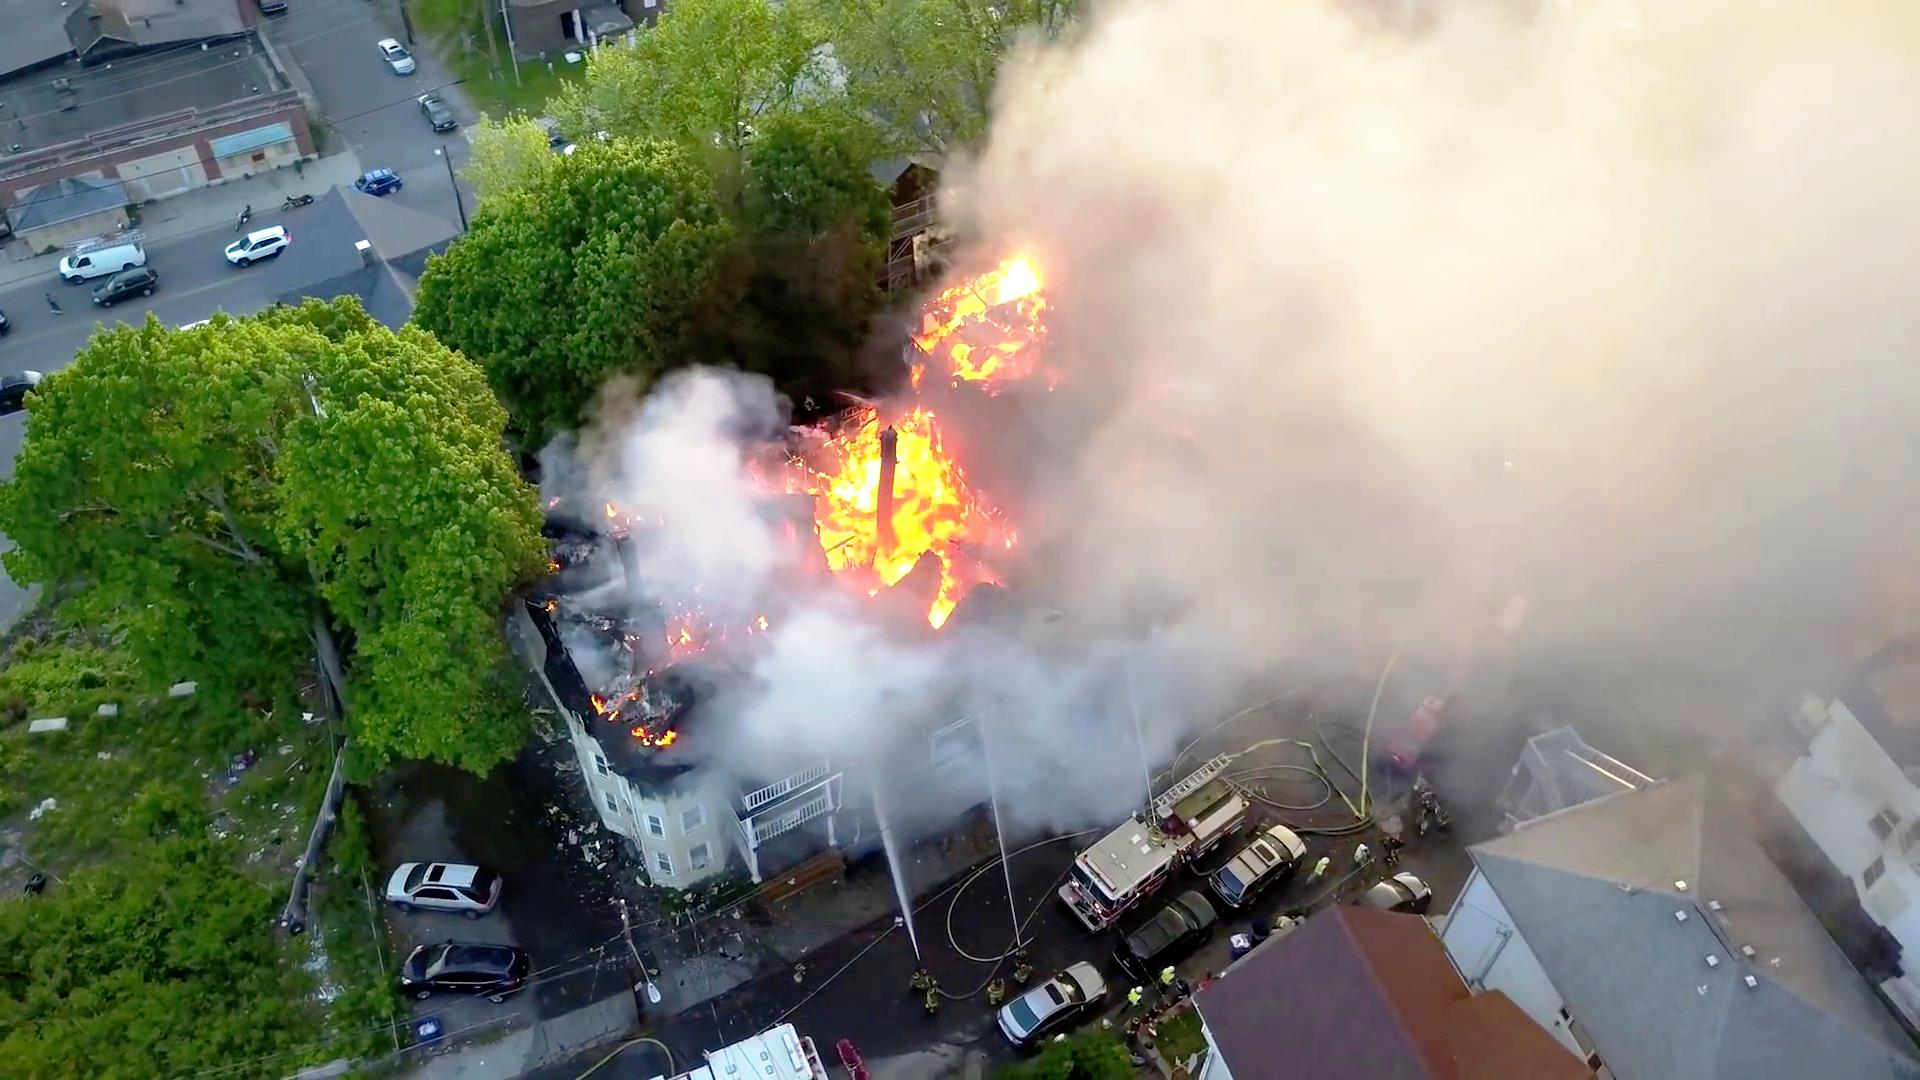fire: (793, 415, 990, 607), (935, 248, 1058, 378)
smoke: (1150, 80, 1821, 604)
